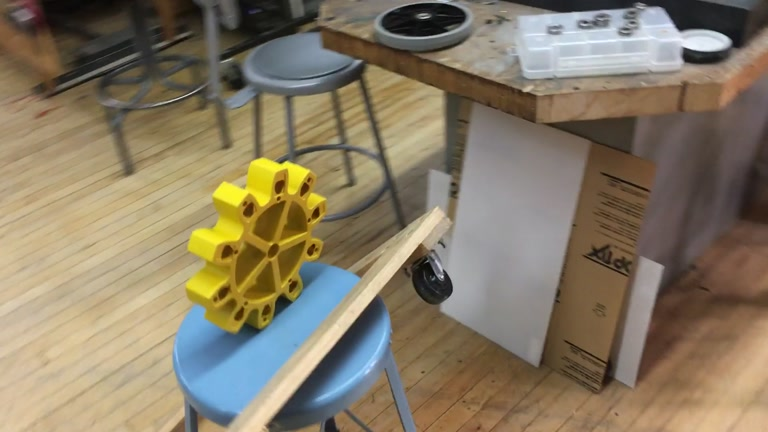gear: (185, 158, 327, 332)
